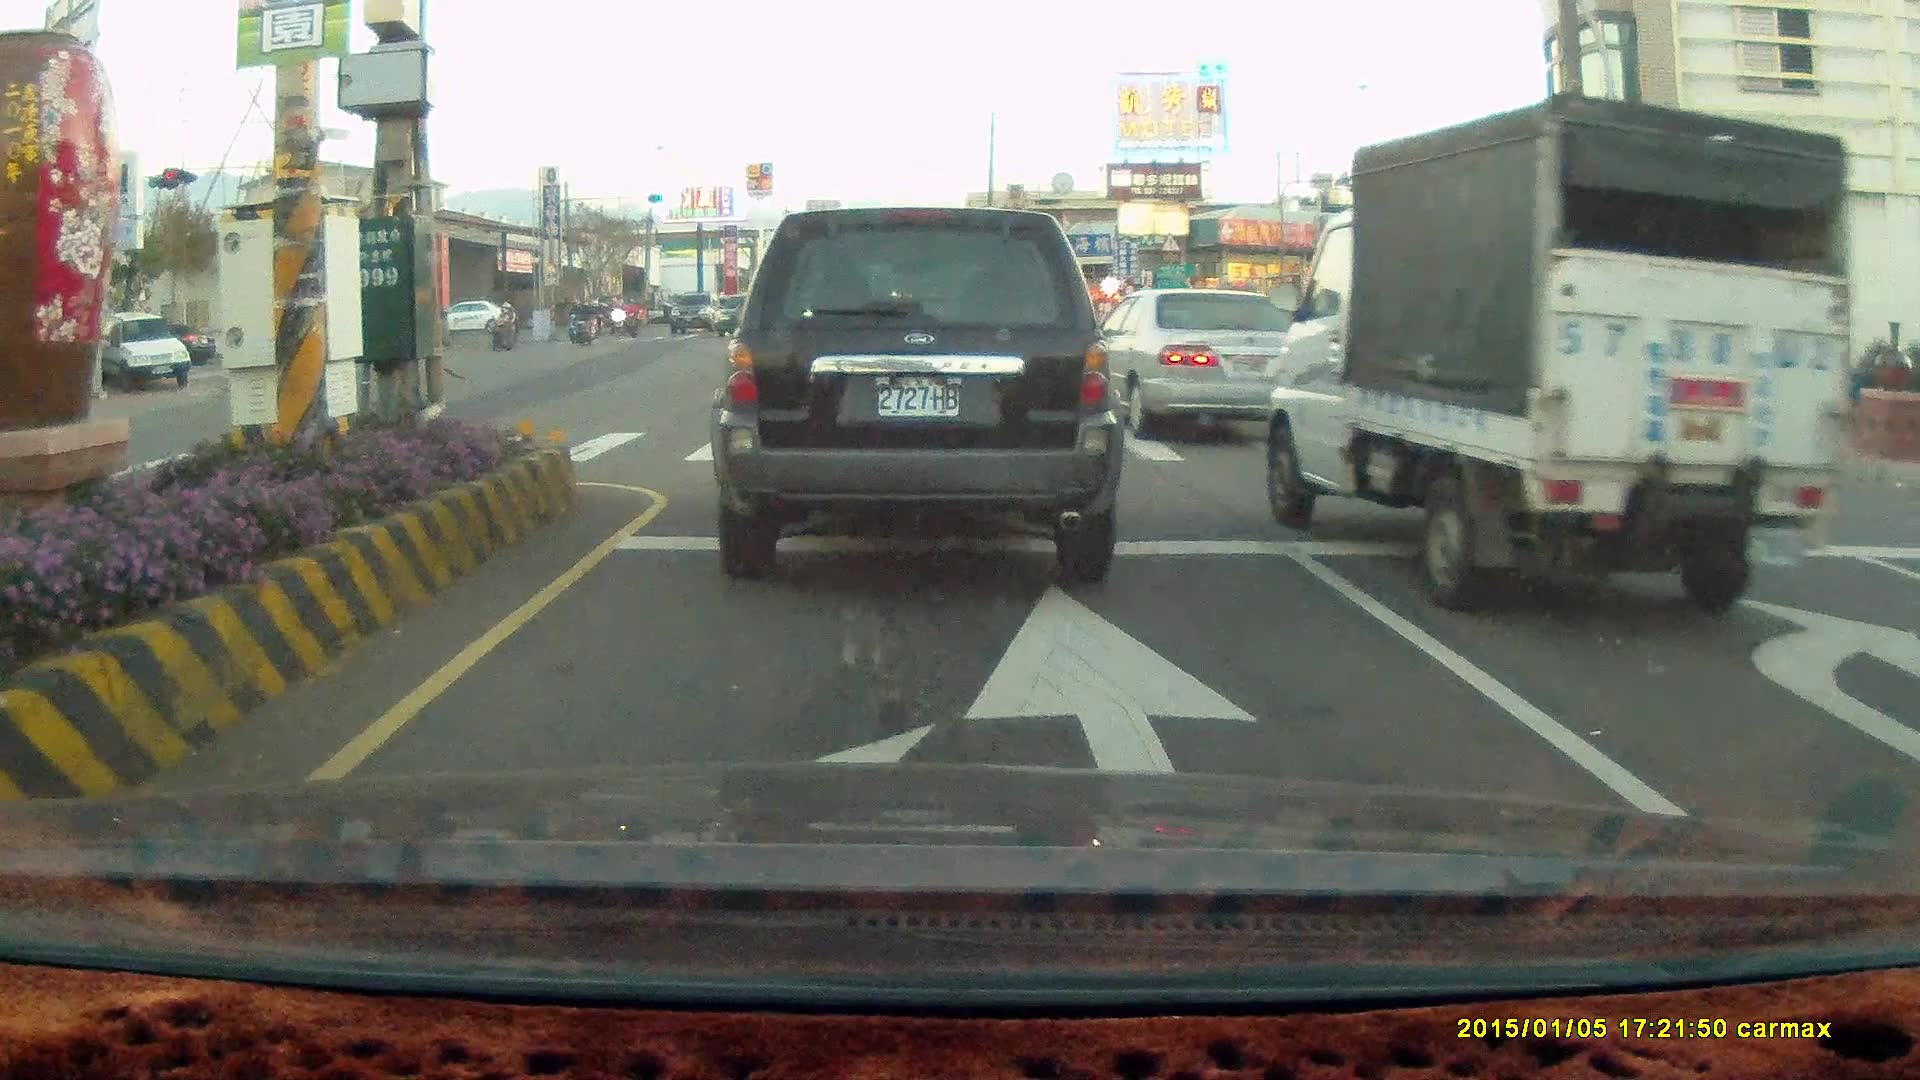rider: (488, 298, 522, 347), (570, 294, 598, 347), (565, 293, 587, 343), (620, 295, 642, 339)
vehicle: (1265, 89, 1855, 616), (705, 203, 1125, 585), (1082, 281, 1332, 438), (1089, 286, 1325, 447), (1702, 286, 1859, 373), (89, 312, 194, 390), (448, 300, 513, 337)
